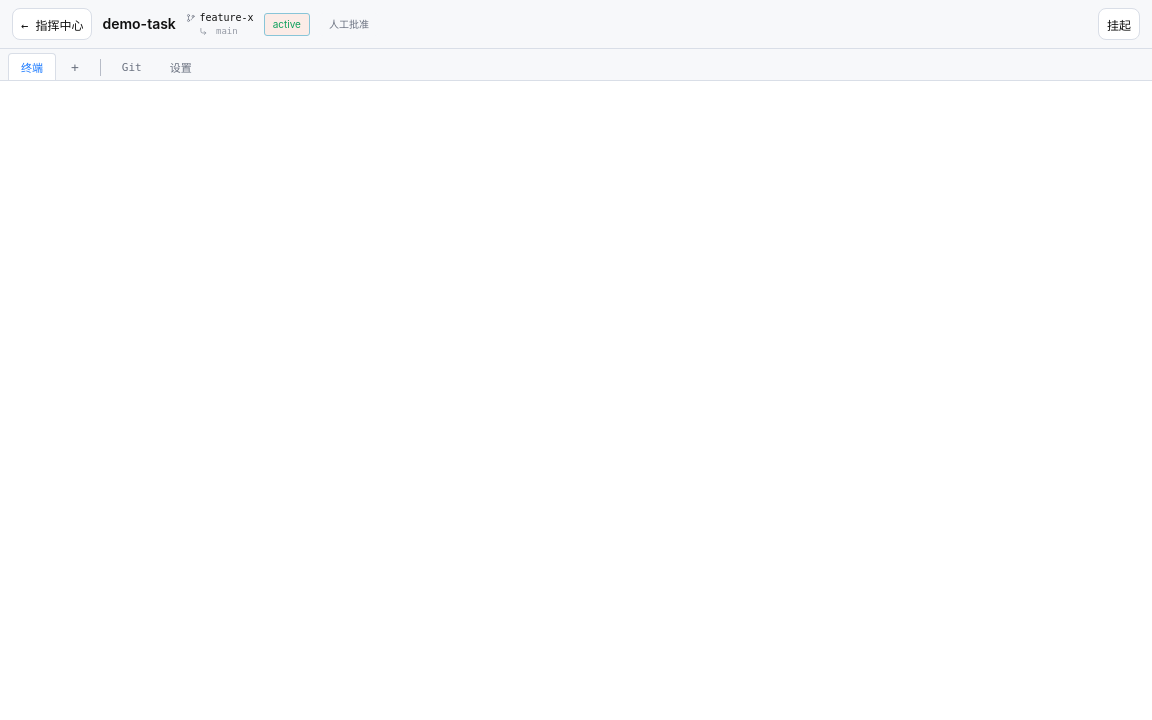
Test: 分支名点击复制（tasks 3.3 / design D3） › 复制当前分支：写入 feature-x，toast「已复制 feature-x」
Click the button with class "branch-copy" showing "feature-x": click(227, 18) top-left (200, 11), bottom-right (254, 25)
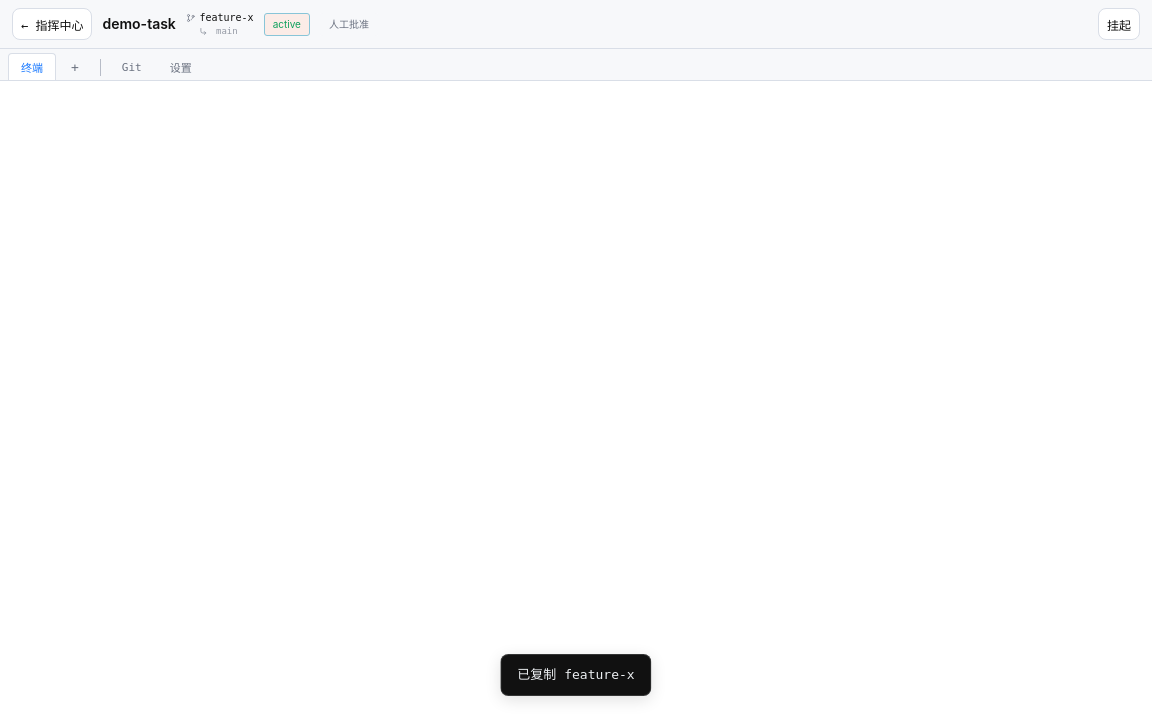
Check: the message with class "od-toast" reads "已复制 feature-x", box top-left (517, 667), bottom-right (635, 682)
